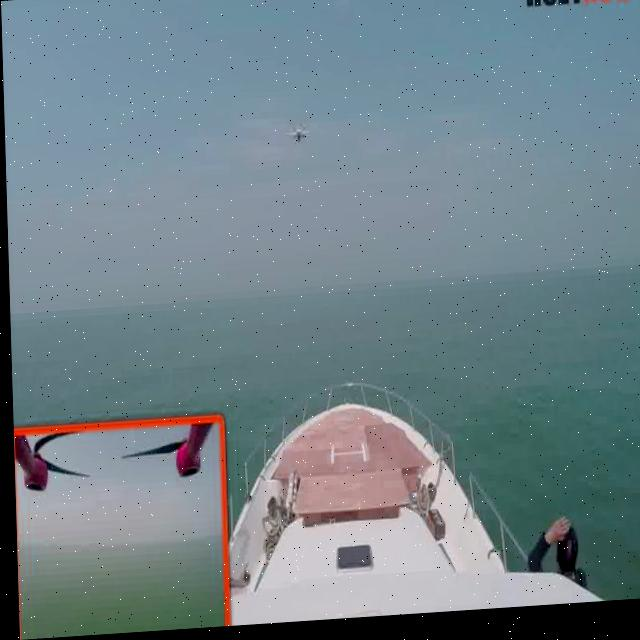drone: (276, 113, 317, 165)
